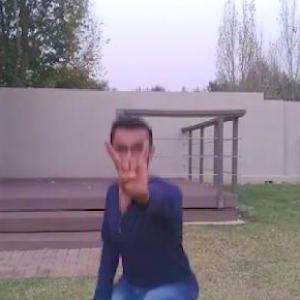takeoff-hand: (100, 129, 158, 203)
